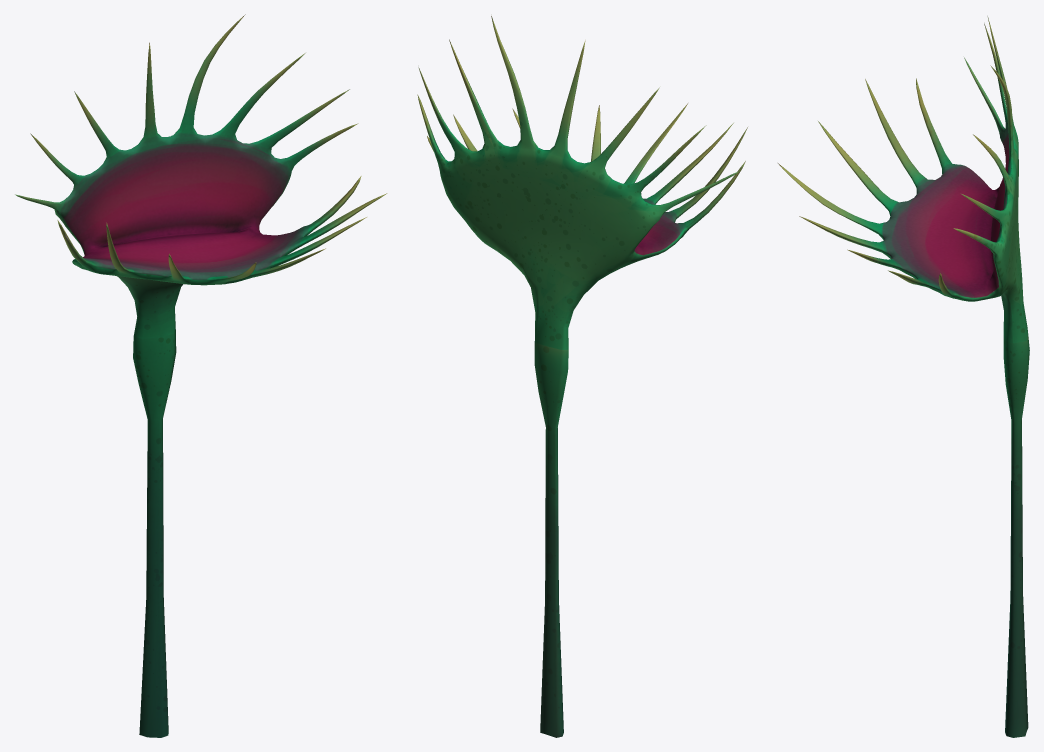
The model's file is venus_fly_trap9.glb.
The picture shows the model from 3 angles, left to right: view 1: azimuth 30°, elevation 25°; view 2: azimuth 150°, elevation 25°; view 3: azimuth 270°, elevation 25°; orthographic projection. The views are drawn at different scales.
Parts seen in each view (by area): view 1: Object_2; view 2: Object_2; view 3: Object_2.
Part boxes in pixels (<box>): Object_2: <box>15,14,387,737</box>; Object_2: <box>417,16,747,737</box>; Object_2: <box>778,16,1029,737</box>.
Size of the model in its own units: 5.4 by 10.81 by 3.51.
1 material, 1 textured.
